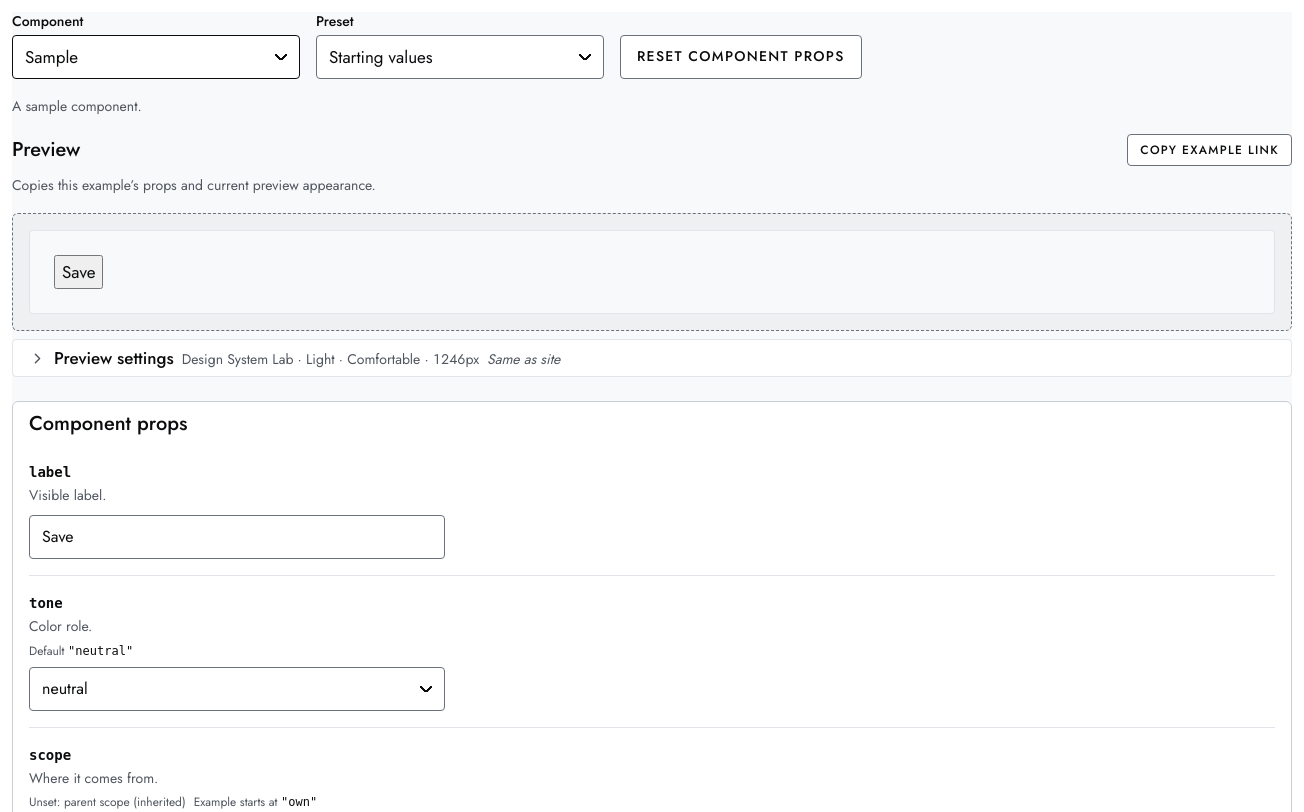
Test case: Preset selector › shows the preset the props match, and Custom once they match none
Check: the option "Custom" is not shown
Select "Brand" in the dropdown labelled "Preset" at [460, 57], box [316,35,604,79]
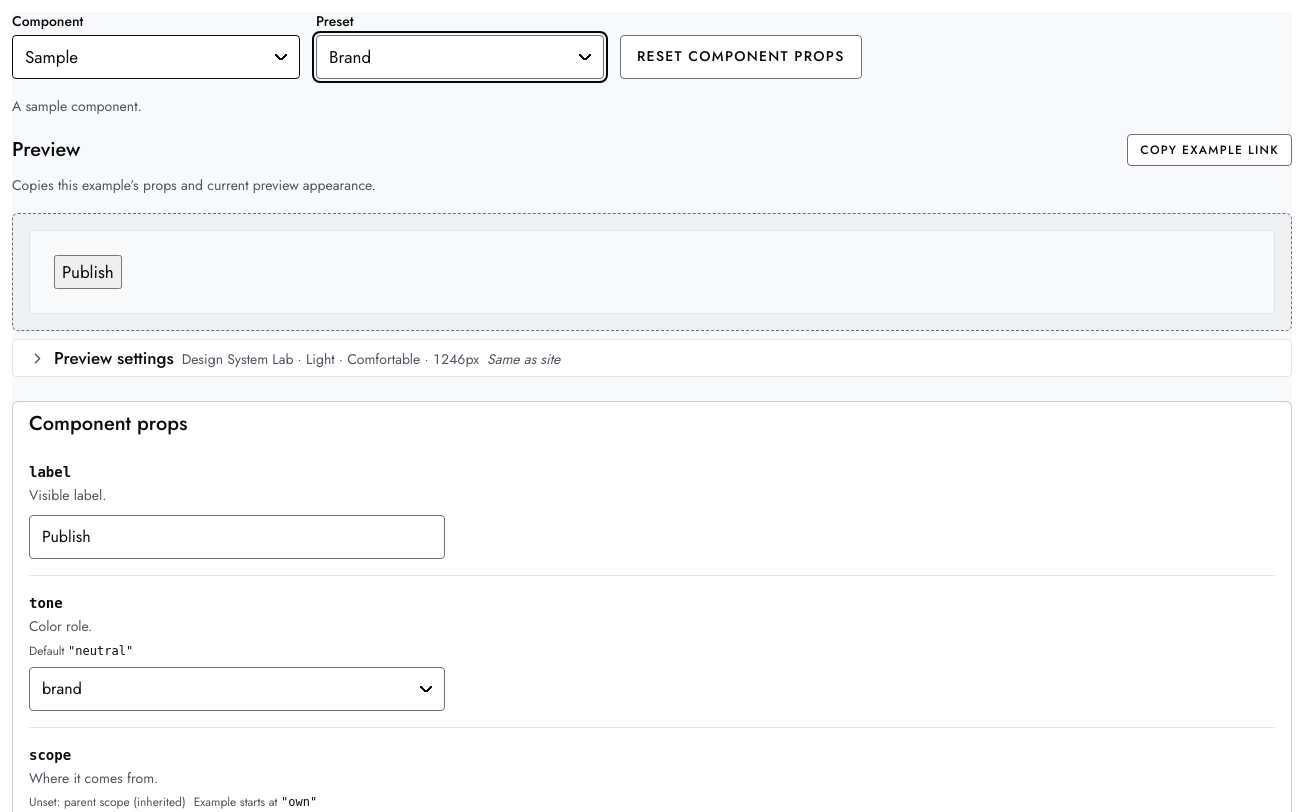
Check: the dropdown labelled "tone" shows "brand"
Select "neutral" in the dropdown labelled "tone" at [237, 689], box [29,667,445,711]
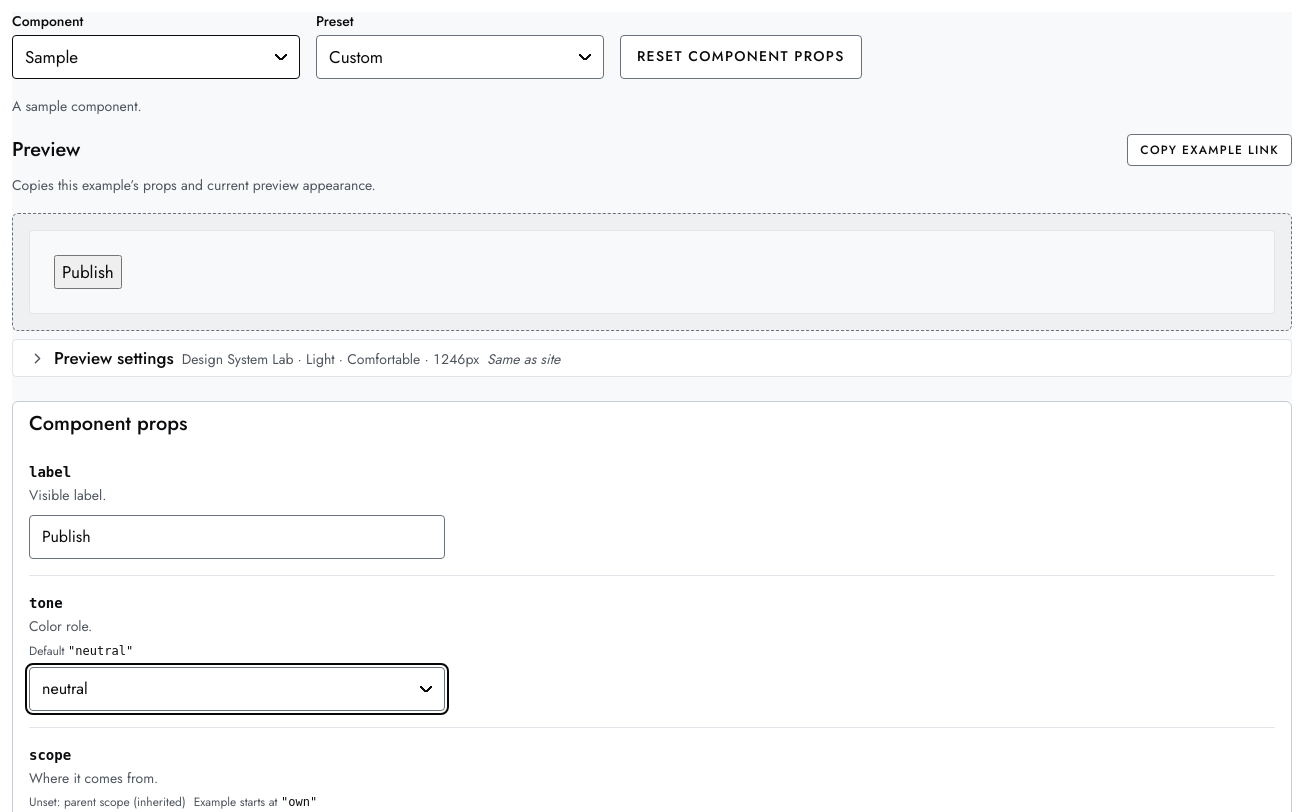
Click the button "Reset component props" at [741, 57], box [620,35,862,79]
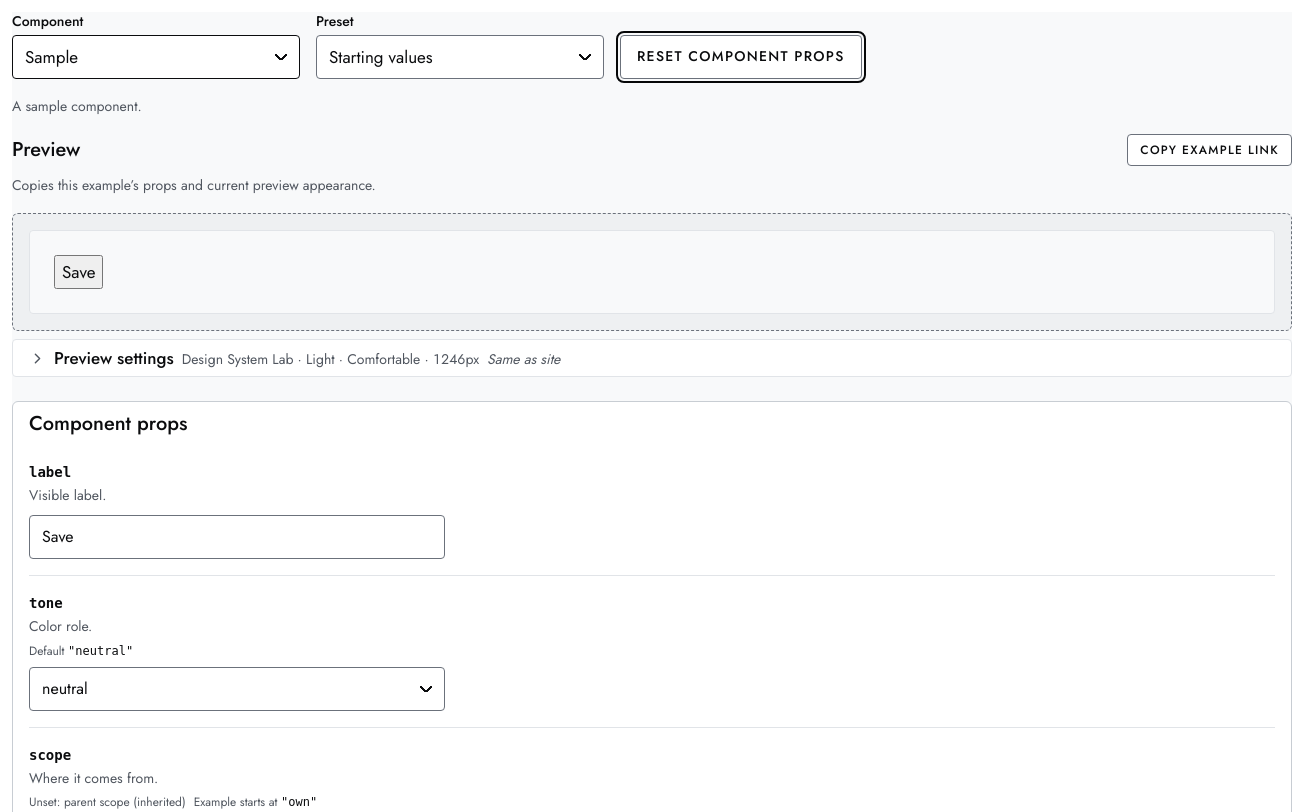
Check: the field labelled "label" holds "Save", box [29,515,445,559]
